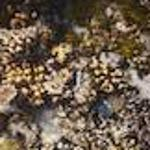alive: (11, 1, 146, 146)
